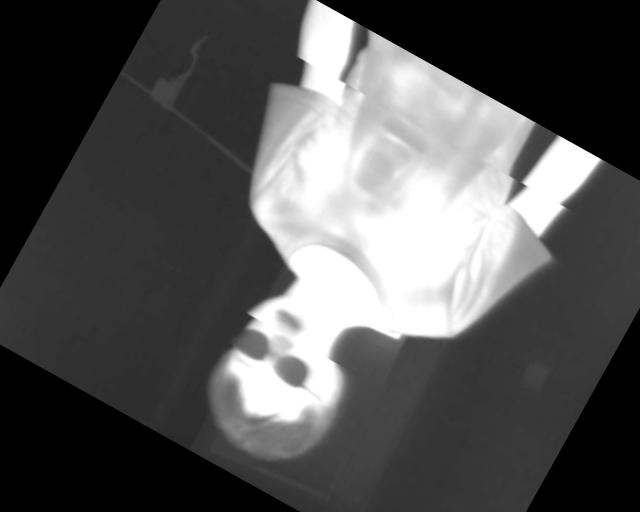face: (180, 274, 379, 485)
